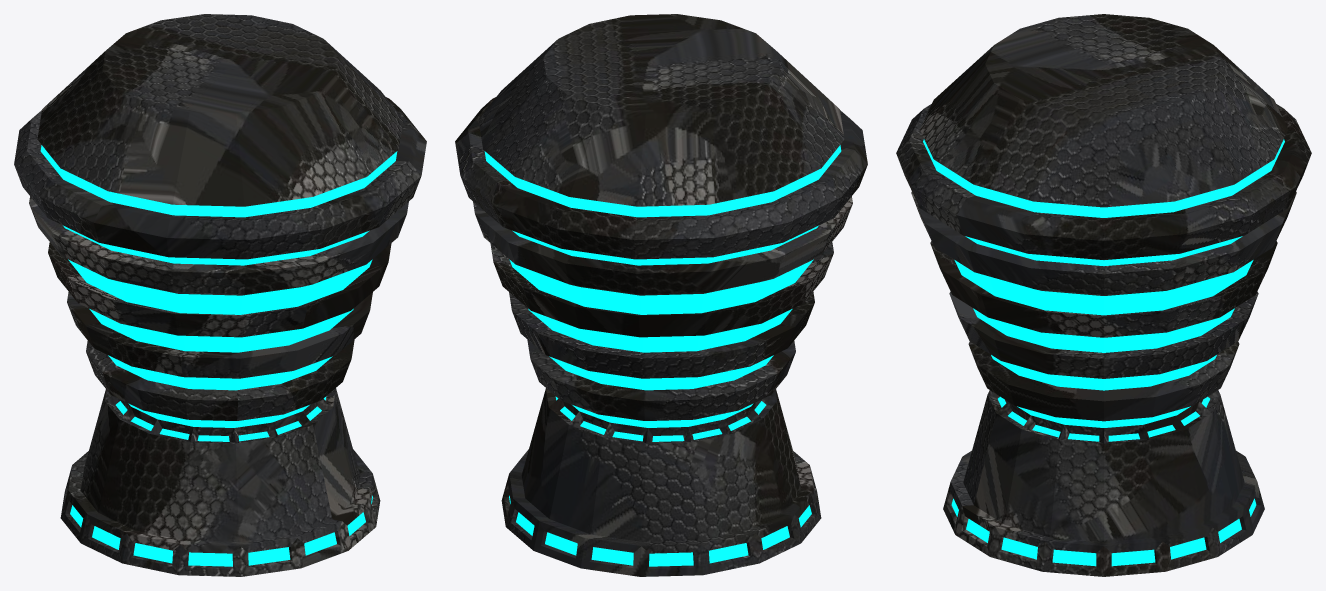
The model's file is track1Building3.glb.
3 renders of one model, left to right at view 1: azimuth 30°, elevation 25°; view 2: azimuth 150°, elevation 25°; view 3: azimuth 270°, elevation 25°, orthographic.
Parts seen in each view (by area): view 1: Cylinder.008; view 2: Cylinder.008; view 3: Cylinder.008.
Boxes of the visible parts, box(x1,y1,x2,y2) form: Cylinder.008: box(14, 14, 426, 576); Cylinder.008: box(455, 14, 867, 576); Cylinder.008: box(896, 14, 1311, 576).
Size of the model in its own units: 7.51 by 8.86 by 7.51.
Materials: 2 (1 with a texture image).
